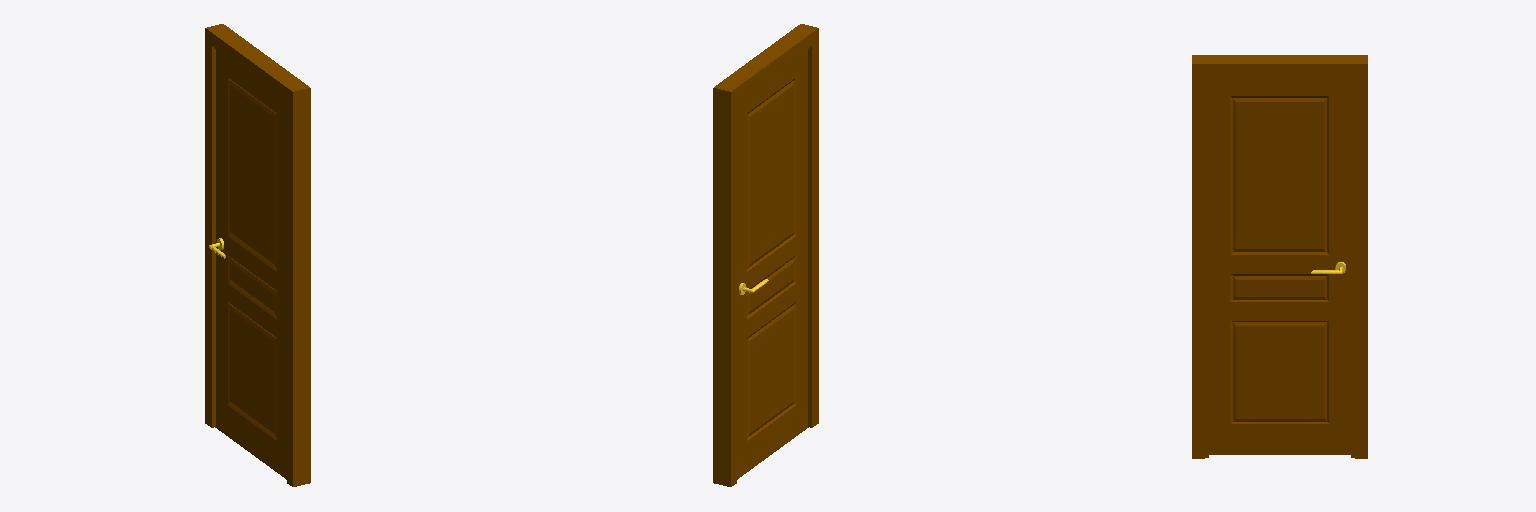
File: house2bdoor1.obj
The picture shows the model from 3 angles: view 1: azimuth 30°, elevation 25°; view 2: azimuth 150°, elevation 25°; view 3: azimuth 270°, elevation 25°; orthographic projection.
Parts seen in each view (by area): view 1: sweethome3d_opening_on_hinge_1_door_4, frame_door_Cube_2; view 2: sweethome3d_opening_on_hinge_1_door_4, frame_door_Cube_2; view 3: sweethome3d_opening_on_hinge_1_door_4, frame_door_Cube_2.
Part boxes in pixels (x1,y1,x2,y2): sweethome3d_opening_on_hinge_1_door_4: (216,49,286,479); frame_door_Cube_2: (205,24,310,486); sweethome3d_opening_on_hinge_1_door_4: (737,49,807,479); frame_door_Cube_2: (713,24,818,486); sweethome3d_opening_on_hinge_1_door_4: (1209,79,1350,454); frame_door_Cube_2: (1192,55,1367,458).
Bounding box in the file's own units: 18.67 × 204 × 82.